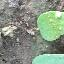Purslane: (33, 0, 64, 64)
